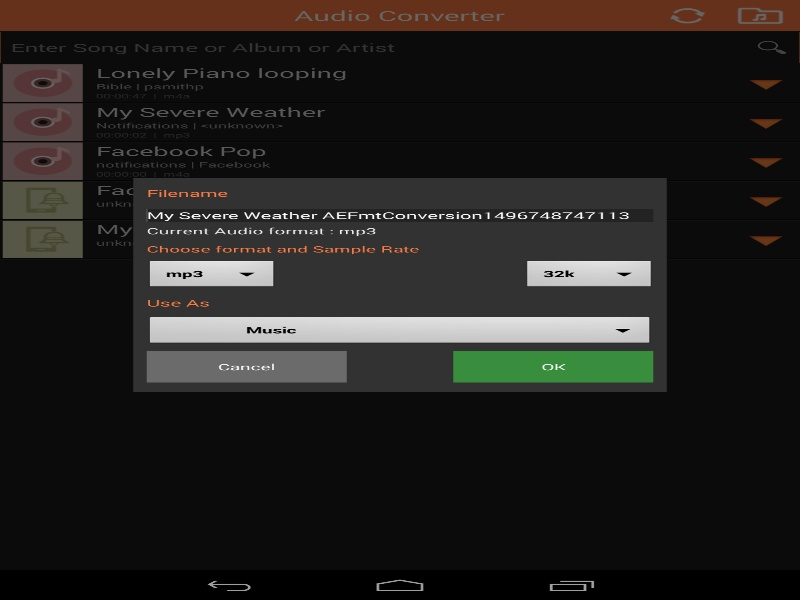Button: (146, 351, 346, 382), (453, 351, 653, 382)
Input: (146, 209, 653, 221)
